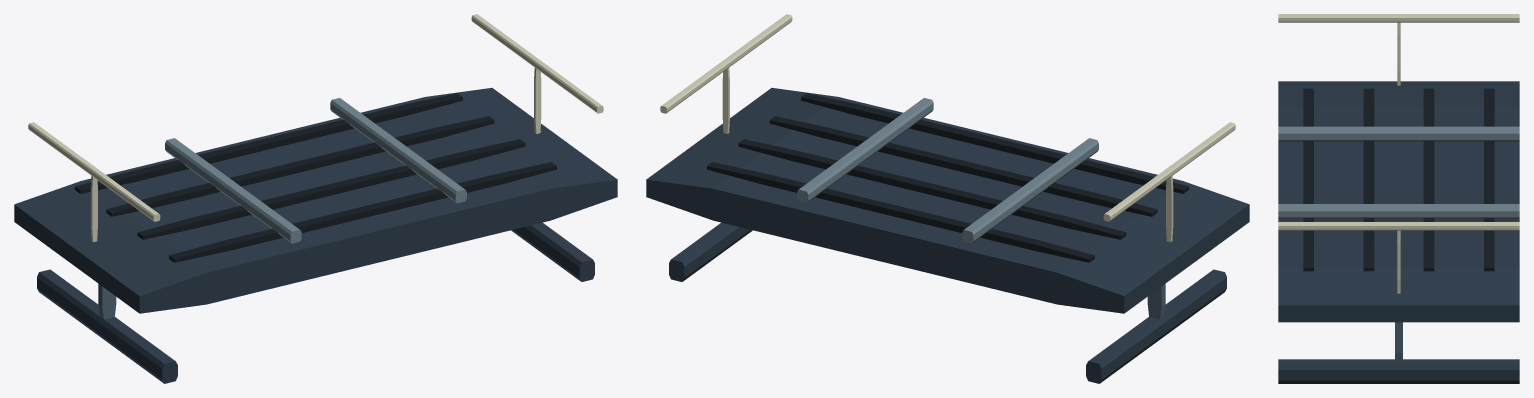
Rendered from BridgeEscapeLeaf.obj.
The picture shows the model from 3 angles, left to right: view 1: azimuth 30°, elevation 25°; view 2: azimuth 150°, elevation 25°; view 3: azimuth 270°, elevation 25°; orthographic projection. The views are drawn at different scales.
Parts seen in each view (by area): view 1: deck, rail_tie, truss_chord, rail_head, hand_rail, guard_post, truss_post; view 2: deck, rail_tie, truss_chord, rail_head, hand_rail, guard_post, truss_post; view 3: deck, rail_head, rail_tie, truss_chord, hand_rail, guard_post, truss_post.
Boxes of the visible parts, x1,y1,x2,y2 form: deck: (14, 88, 617, 313); rail_tie: (75, 93, 556, 262); truss_chord: (37, 222, 594, 383); rail_head: (165, 98, 466, 243); hand_rail: (28, 14, 603, 221); guard_post: (90, 68, 541, 242); truss_post: (98, 284, 116, 319); deck: (646, 88, 1249, 313); rail_tie: (707, 93, 1188, 262); truss_chord: (669, 222, 1226, 383); rail_head: (797, 98, 1098, 243); hand_rail: (660, 14, 1235, 221); guard_post: (722, 68, 1173, 242); truss_post: (1147, 284, 1165, 319); deck: (1278, 81, 1519, 322); rail_head: (1278, 126, 1519, 219); rail_tie: (1303, 88, 1494, 271); truss_chord: (1278, 359, 1519, 383); hand_rail: (1278, 14, 1519, 230); guard_post: (1397, 22, 1400, 293); truss_post: (1395, 322, 1402, 364).
Size of the model in its own units: 11 by 3.76 by 5.
